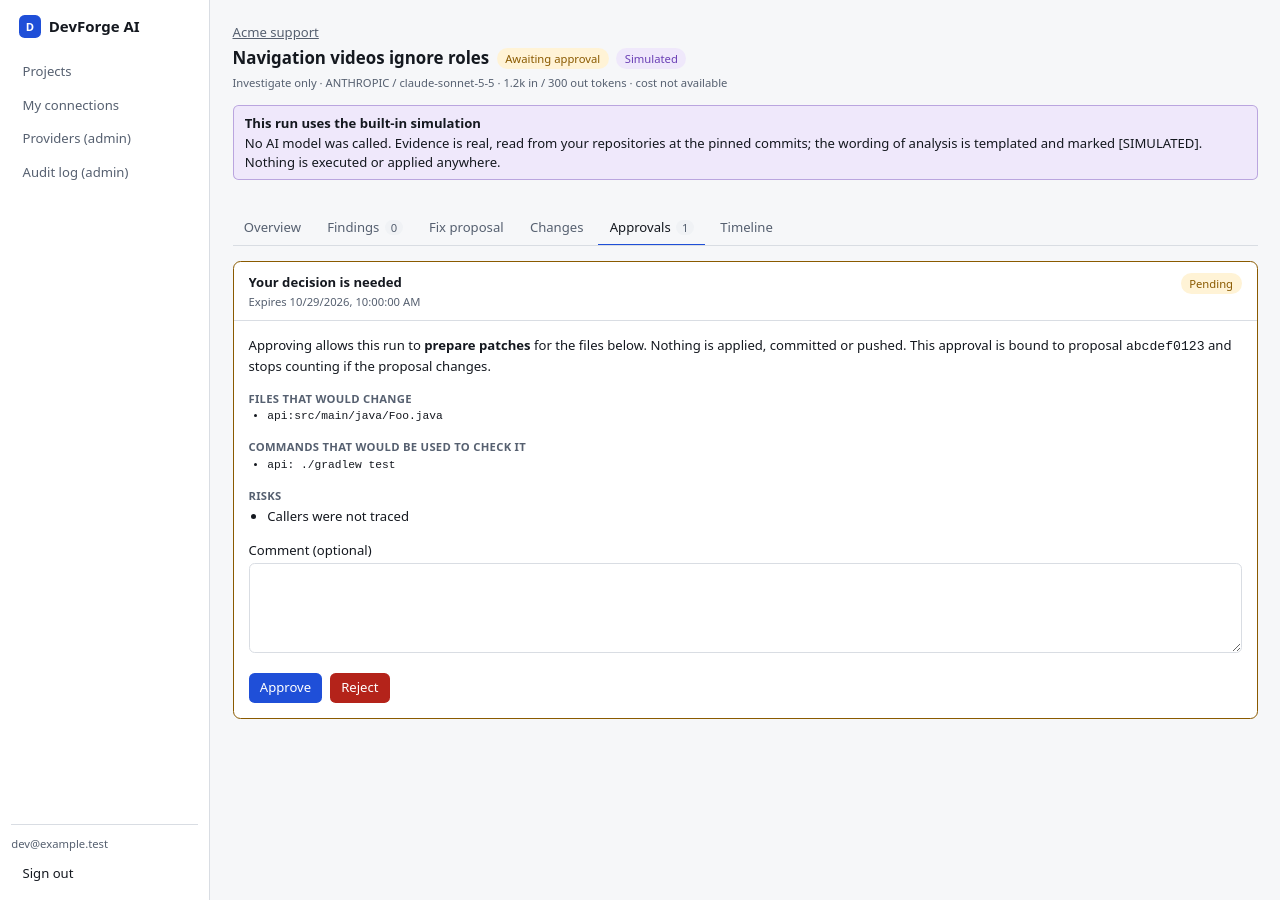
Run page › tells the approver when the proposal changed under them instead of approving blindly
Click the button "Approve".
click(285, 688)  # box [248, 673, 322, 703]
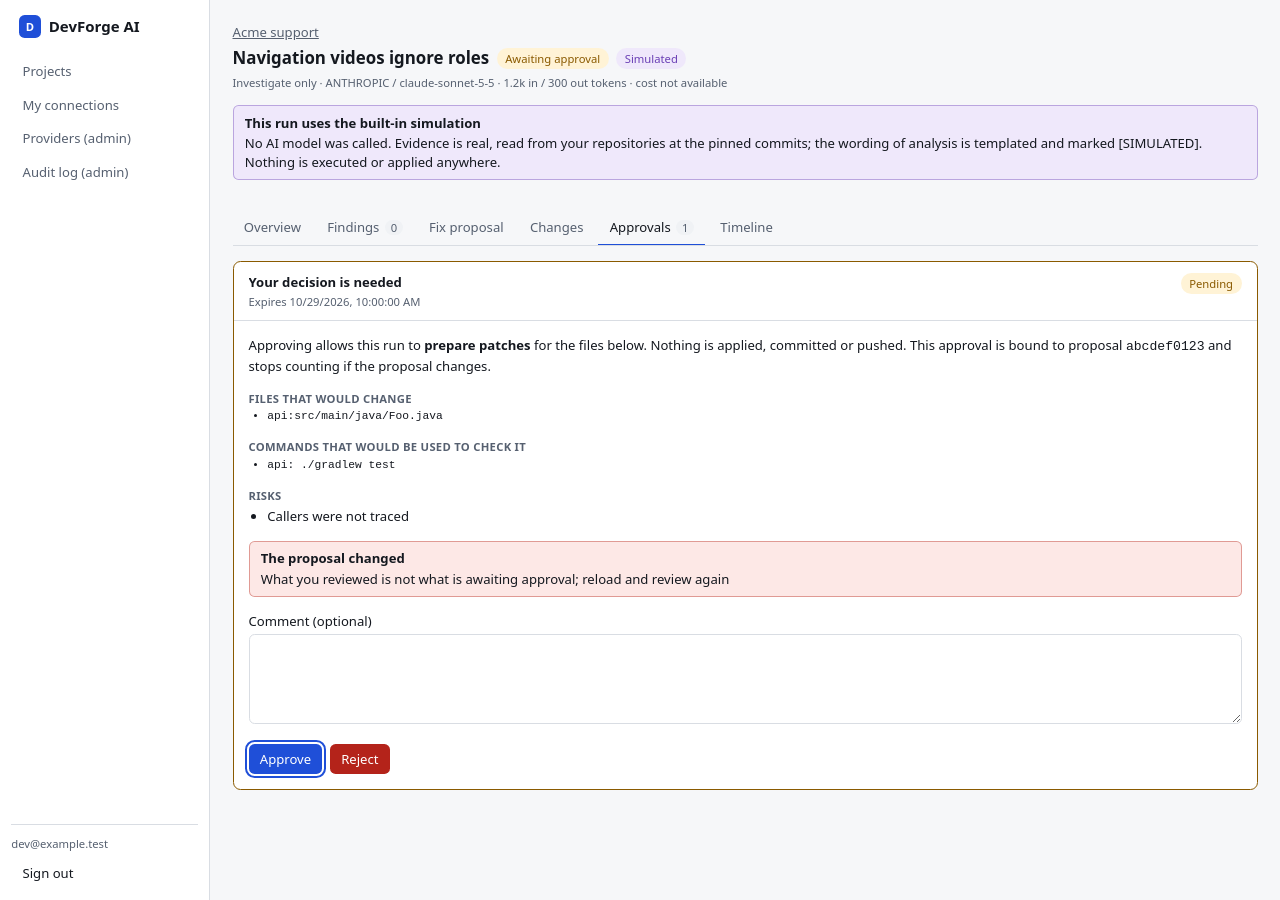
Check: the text "The proposal changed" is shown, box [261, 549, 405, 567]
Check: the text "reload and review again" is shown, box [261, 570, 729, 588]
